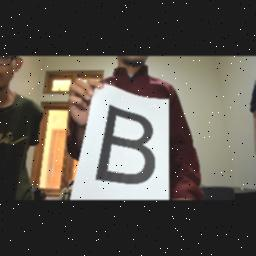b: (94, 102, 160, 194)
